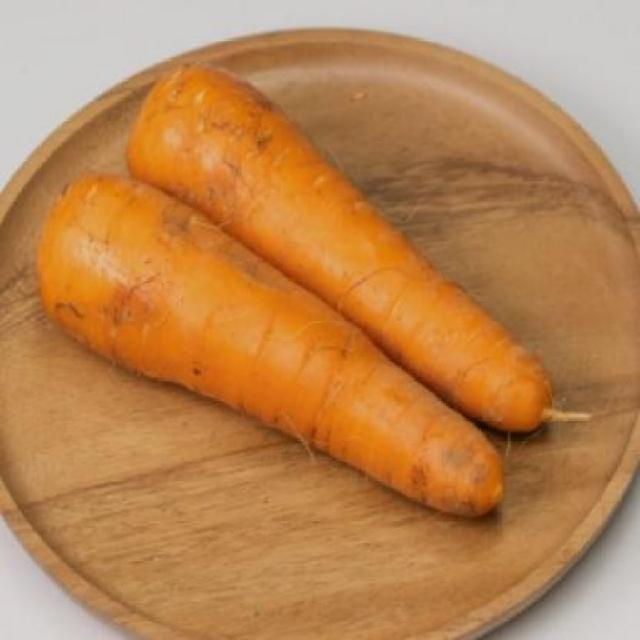carrot: (32, 170, 514, 530), (130, 54, 558, 443)
